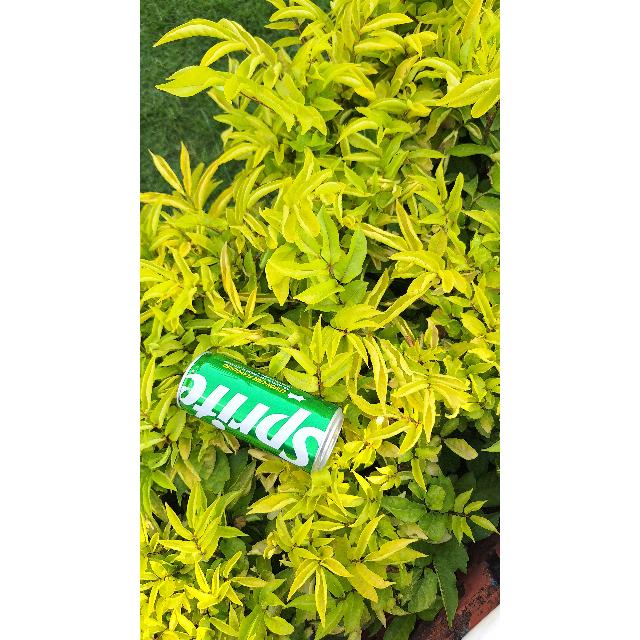Sprite: (172, 352, 338, 464)
